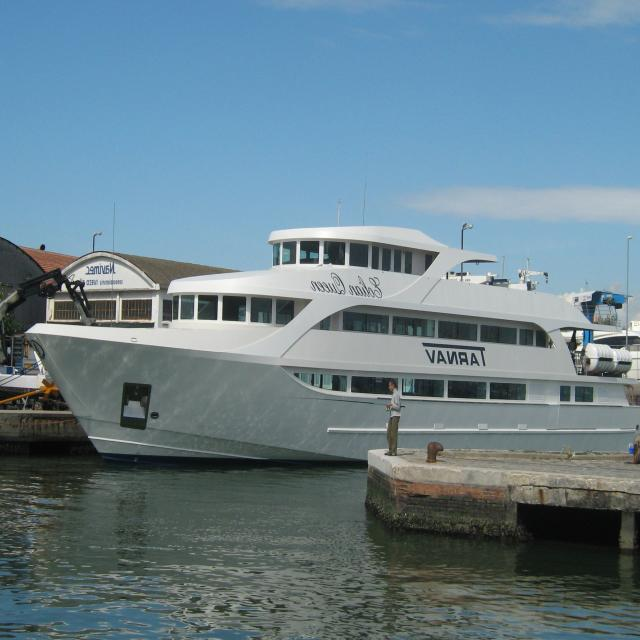cargoship: (28, 215, 640, 465)
